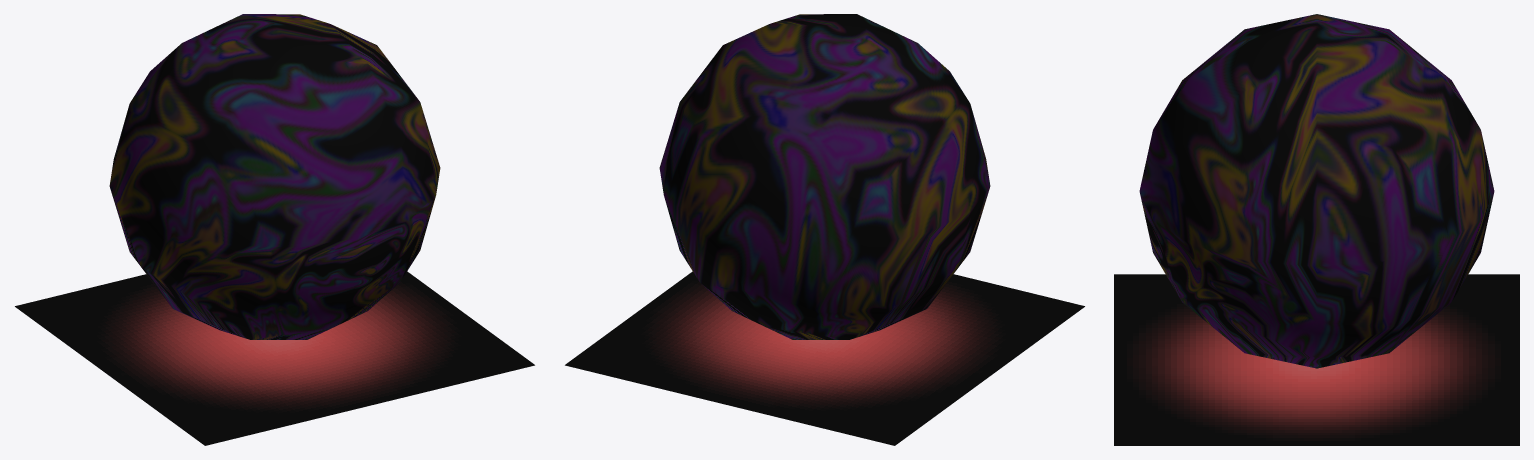
Rendered from P_ExtraLife.FBX.
3 views of the same model, side by side, from view 1: azimuth 30°, elevation 25°; view 2: azimuth 150°, elevation 25°; view 3: azimuth 270°, elevation 25° (orthographic). The views are drawn at different scales.
Visible parts, largest first — view 1: P_Extra_Life_Sphere, P_Extra_Point_Floor; view 2: P_Extra_Life_Sphere, P_Extra_Point_Floor; view 3: P_Extra_Life_Sphere, P_Extra_Point_Floor.
Boxes of the visible parts, x1,y1,x2,y2 form: P_Extra_Life_Sphere: [109, 14, 440, 339]; P_Extra_Point_Floor: [15, 271, 534, 445]; P_Extra_Life_Sphere: [659, 14, 990, 339]; P_Extra_Point_Floor: [565, 271, 1084, 445]; P_Extra_Life_Sphere: [1139, 14, 1494, 368]; P_Extra_Point_Floor: [1114, 274, 1519, 445].
Size of the model in its own units: 4.58 by 4.12 by 4.57.
Materials: 3 (3 with a texture image).
